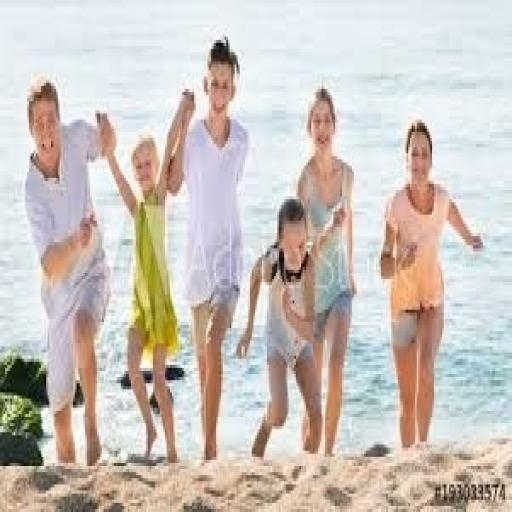running: (96, 86, 198, 466), (163, 34, 252, 463), (22, 71, 117, 469), (378, 116, 486, 454), (234, 193, 348, 463), (292, 83, 360, 460)
